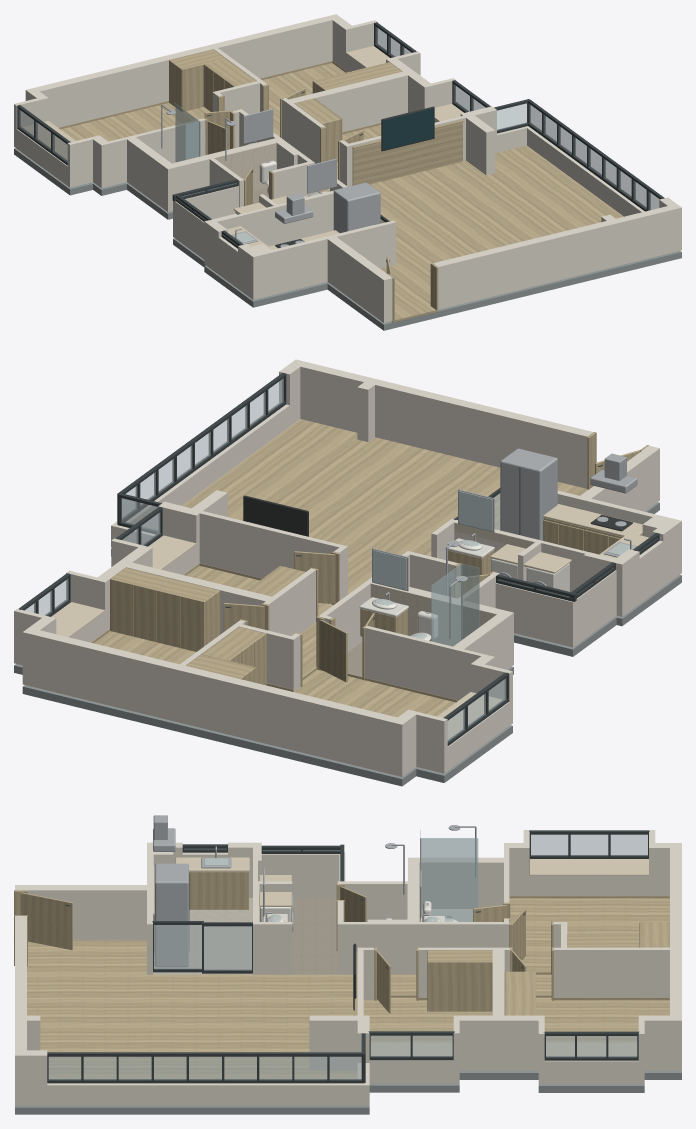
File: architecture-cut.glb
The picture shows the model from 3 angles, top to bottom: view 1: azimuth 30°, elevation 25°; view 2: azimuth 150°, elevation 25°; view 3: azimuth 270°, elevation 25°; orthographic projection. The views are drawn at different scales.
Parts seen in each view (by area): view 1: 剖切墙_0.00_00, 客餐厅阳台及过道_地面, 剖切墙_0.50_04, 剖切墙_0.50_00, 住宅楼板, 剖切墙_0.95_00, 剖切墙_0.50_02, 剖切_日式方案_半高实木护墙, 剖切墙_0.95_04, 剖切墙_0.50_01, 剖切墙_0.95_02, 剖切墙_0.45_00 (+26 smaller); view 2: 剖切墙_0.00_00, 客餐厅阳台及过道_地面, 剖切墙_0.50_04, 剖切墙_0.50_00, 剖切墙_0.95_00, 住宅楼板, 剖切墙_0.50_02, 剖切墙_0.95_04, 对开门冰箱_家电占位, 剖切墙_0.95_02, 剖切墙_0.45_00, 主卧与开放衣帽间_地面 (+39 smaller); view 3: 客餐厅阳台及过道_地面, 剖切墙_0.00_00, 剖切墙_0.50_04, 住宅楼板, 主卧与开放衣帽间_地面, 剖切墙_0.95_04, 主卫淋浴_东玻璃, 剖切墙_0.95_00, 长辈房_地面, 剖切墙_0.50_00, 厨房_地面, 公卫湿区与盥洗晾晒_地面 (+53 smaller).
Part boxes in pixels (x1=…): 剖切墙_0.00_00: x1=14, y1=45, x2=681, y2=322; 客餐厅阳台及过道_地面: x1=315, y1=145, x2=623, y2=322; 剖切墙_0.50_04: x1=67, y1=117, x2=396, y2=303; 剖切墙_0.50_00: x1=14, y1=26, x2=373, y2=128; 住宅楼板: x1=14, y1=148, x2=681, y2=330; 剖切墙_0.95_00: x1=14, y1=14, x2=377, y2=111; 剖切墙_0.50_02: x1=438, y1=206, x2=681, y2=290; 剖切_日式方案_半高实木护墙: x1=352, y1=122, x2=462, y2=185; 剖切墙_0.95_04: x1=67, y1=109, x2=314, y2=186; 剖切墙_0.50_01: x1=282, y1=59, x2=452, y2=149; 剖切墙_0.95_02: x1=433, y1=197, x2=681, y2=272; 剖切墙_0.45_00: x1=14, y1=43, x2=496, y2=305; 剖切墙_0.00_00: x1=14, y1=397, x2=681, y2=776; 客餐厅阳台及过道_地面: x1=152, y1=419, x2=588, y2=676; 剖切墙_0.50_04: x1=334, y1=455, x2=681, y2=701; 剖切墙_0.50_00: x1=14, y1=618, x2=447, y2=752; 剖切墙_0.95_00: x1=14, y1=608, x2=447, y2=731; 住宅楼板: x1=14, y1=502, x2=681, y2=786; 剖切墙_0.50_02: x1=279, y1=374, x2=587, y2=464; 剖切墙_0.95_04: x1=318, y1=551, x2=513, y2=680; 对开门冰箱_家电占位: x1=500, y1=448, x2=557, y2=540; 剖切墙_0.95_02: x1=279, y1=359, x2=593, y2=443; 剖切墙_0.45_00: x1=14, y1=477, x2=681, y2=755; 主卧与开放衣帽间_地面: x1=294, y1=669, x2=455, y2=717; 客餐厅阳台及过道_地面: x1=27, y1=940, x2=551, y2=1078; 剖切墙_0.00_00: x1=15, y1=877, x2=681, y2=1105; 剖切墙_0.50_04: x1=46, y1=852, x2=529, y2=951; 住宅楼板: x1=15, y1=1070, x2=681, y2=1114; 主卧与开放衣帽间_地面: x1=509, y1=898, x2=669, y2=972; 剖切墙_0.95_04: x1=337, y1=830, x2=529, y2=931; 主卫淋浴_东玻璃: x1=421, y1=838, x2=478, y2=921; 剖切墙_0.95_00: x1=553, y1=830, x2=681, y2=1040; 长辈房_地面: x1=536, y1=997, x2=669, y2=1041; 剖切墙_0.50_00: x1=553, y1=855, x2=681, y2=1061; 厨房_地面: x1=153, y1=898, x2=252, y2=974; 公卫湿区与盥洗晾晒_地面: x1=292, y1=898, x2=337, y2=974.
Bounding box in the file's own units: 10.62 × 2.43 × 13.28.
Materials: 21 (7 with a texture image).
